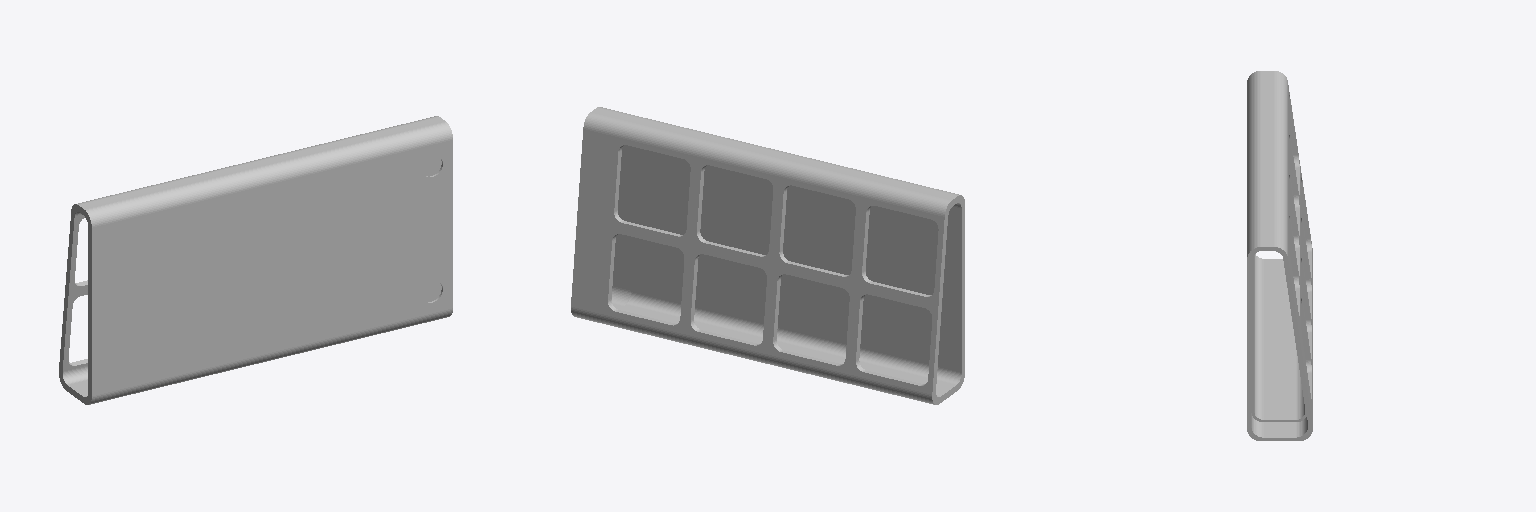
The model's file is pad_right.obj.
3 views of the same model, side by side, from view 1: azimuth 30°, elevation 25°; view 2: azimuth 150°, elevation 25°; view 3: azimuth 270°, elevation 25° (orthographic).
Parts seen in each view (by area): view 1: 1; view 2: 1; view 3: 1.
Part boxes in pixels (bbox=[...]): 1: bbox=[59, 116, 452, 404]; 1: bbox=[571, 107, 964, 404]; 1: bbox=[1247, 71, 1312, 440].
Bounding box in the file's own units: 175 × 90 × 27.65.